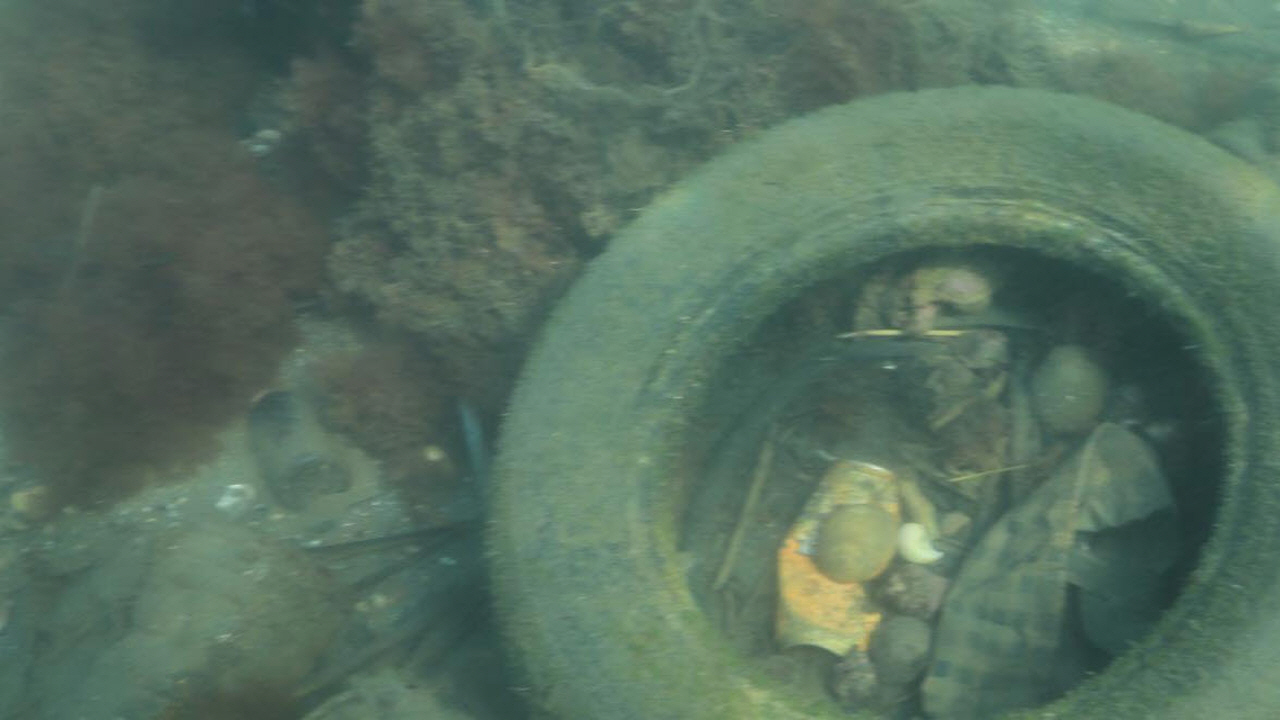tire: (484, 83, 1280, 720)
